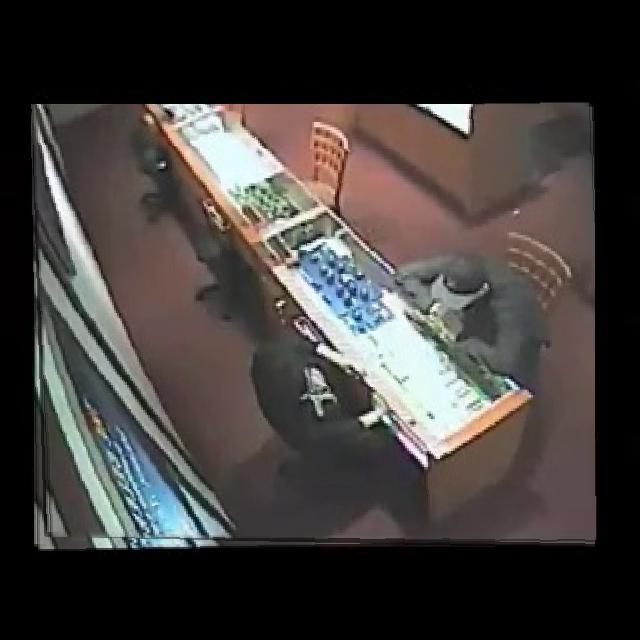normal: (31, 104, 595, 549)
